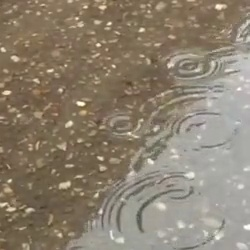drop: (106, 166, 225, 249), (173, 112, 238, 149), (167, 52, 216, 79), (157, 174, 193, 200), (105, 114, 141, 136), (10, 111, 33, 125)
